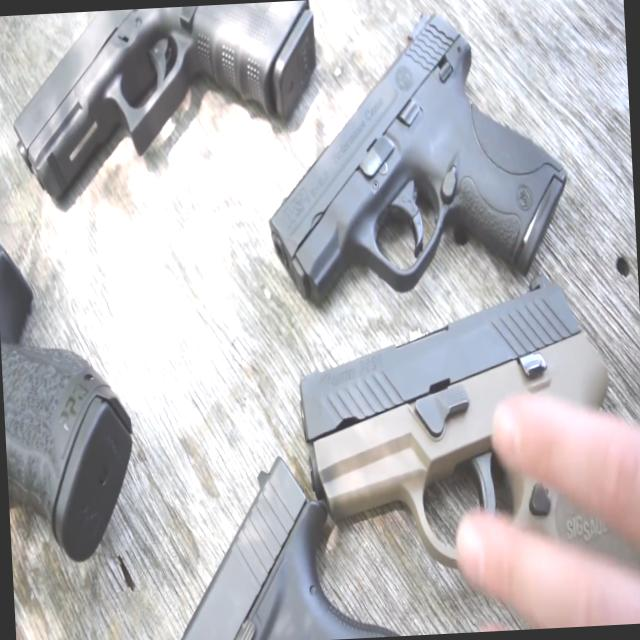handgun: (279, 261, 639, 605), (266, 13, 586, 330), (0, 4, 324, 229)
